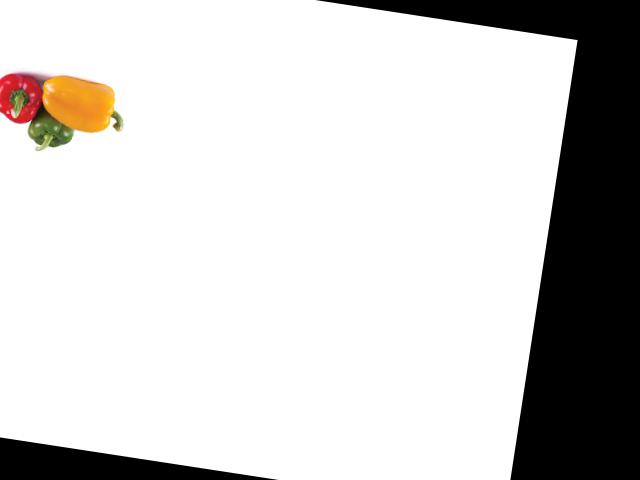bell_pepper: (20, 102, 81, 156)
